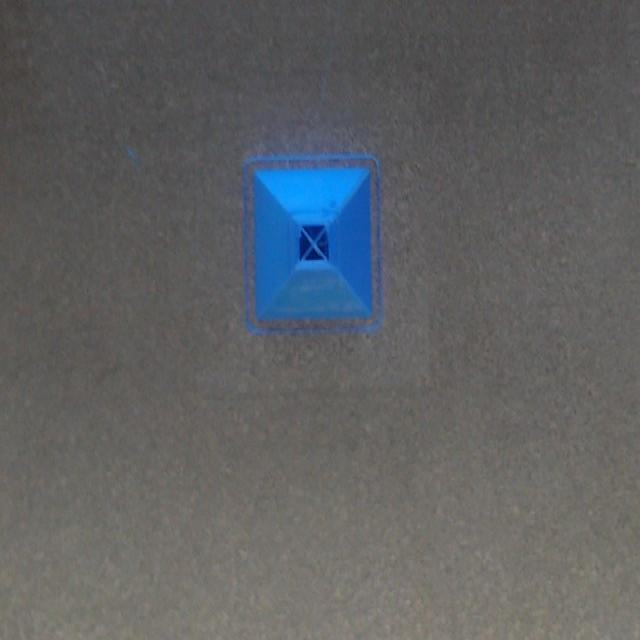mistake: (318, 203, 340, 249)
